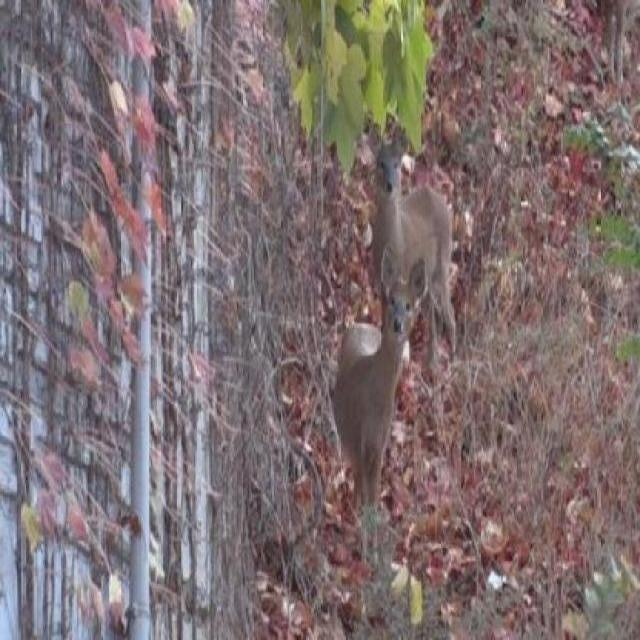deer: (328, 249, 423, 542), (373, 129, 464, 348)
